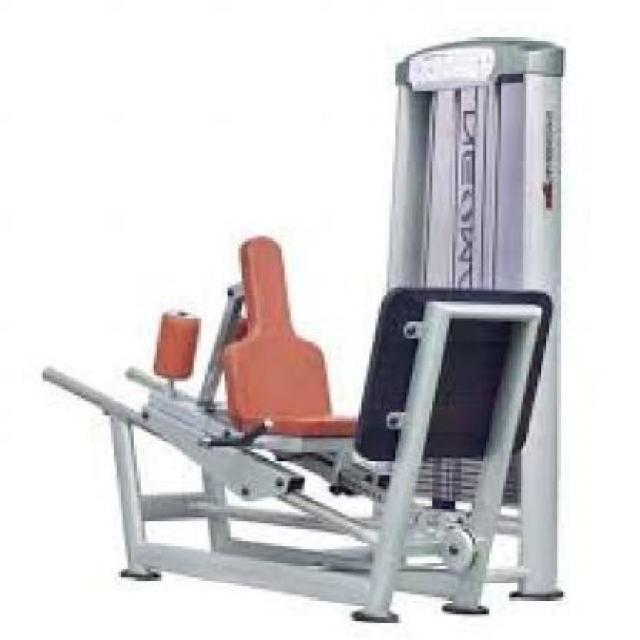leg press: (38, 28, 584, 630)
